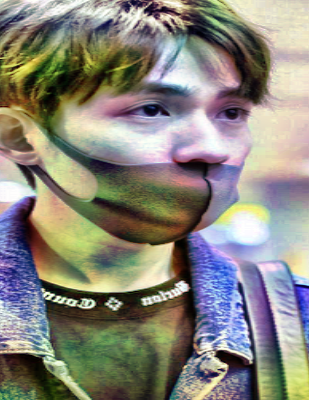mask_weared_incorrect: (62, 80, 257, 247)
